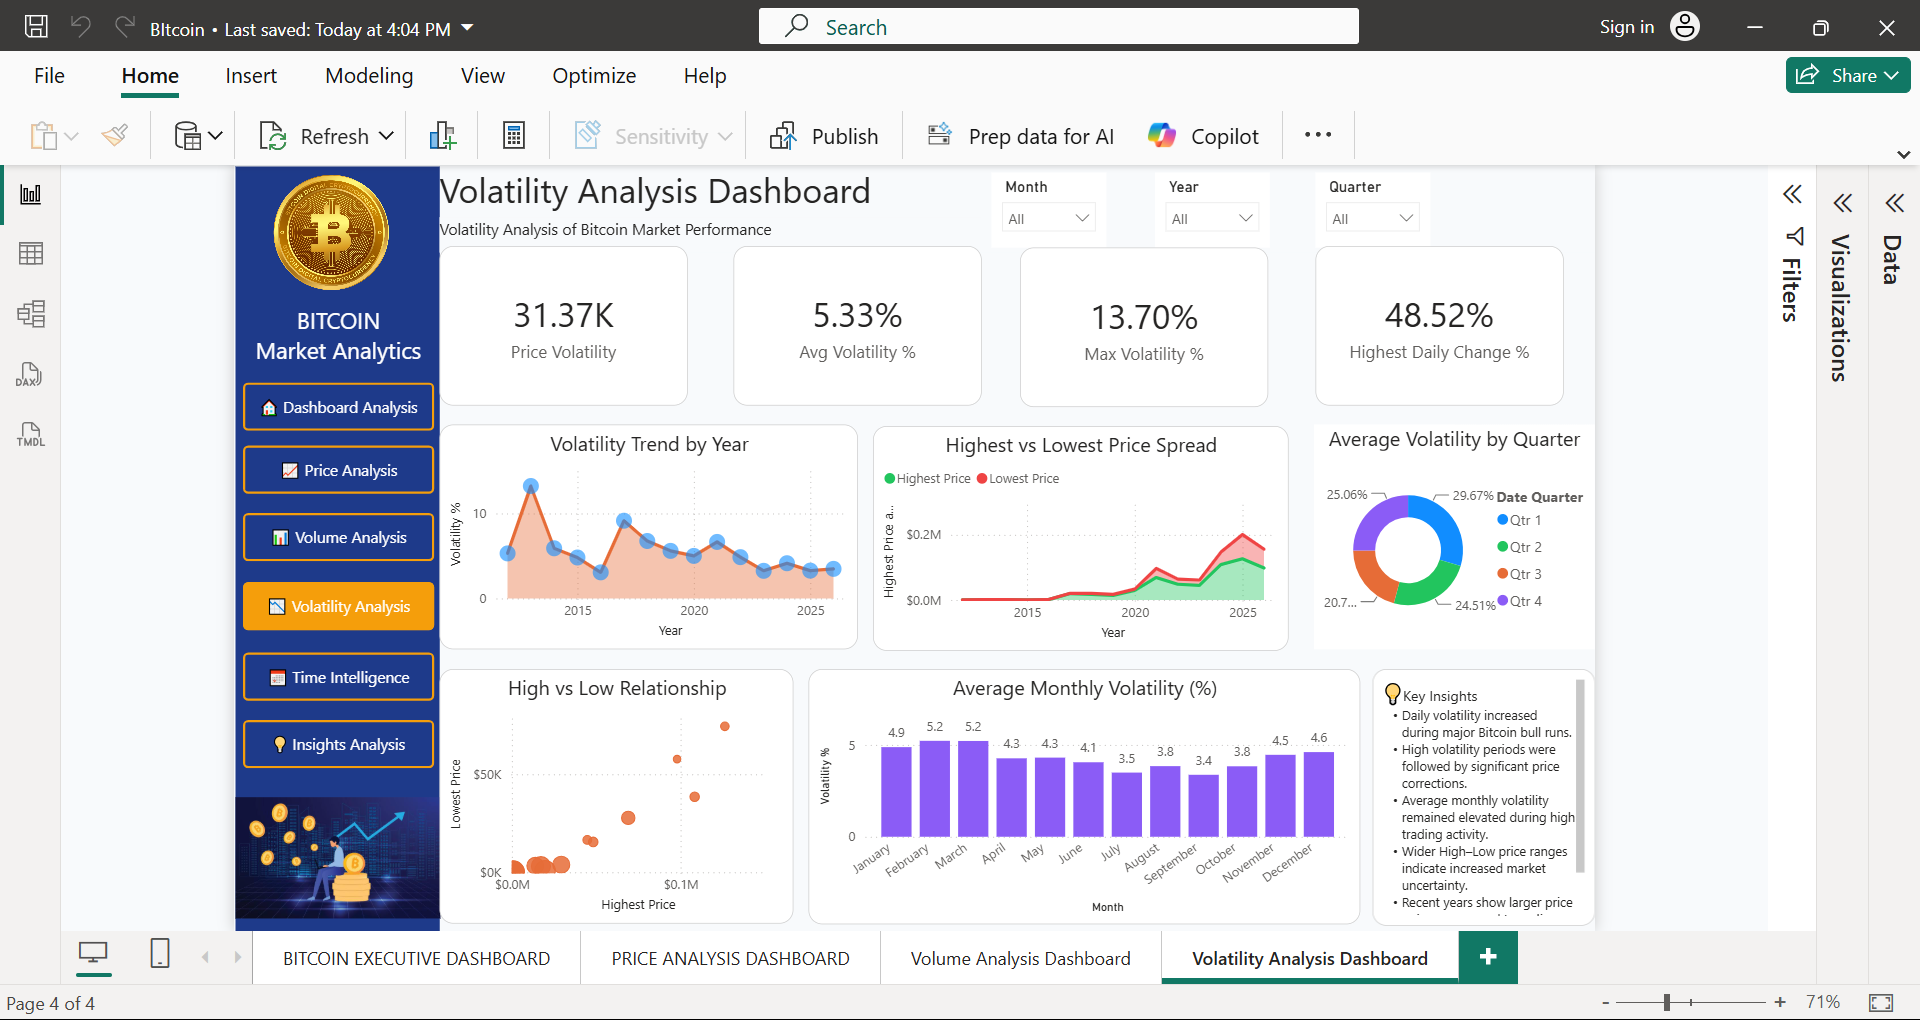

Layout of this report page (visuals, bound fields, positions):
{"tool":"powerbi","page":{"name":"Volatility Analysis Dashboard","canvas":[1280,720],"ordinal":3},"visuals":[{"type":"shape","box":[0.7,1.7,192.3,719.2],"z":0},{"type":"image","box":[0.7,1.7,180.2,124.2],"z":1000},{"type":"textbox","box":[2.3,125.8,190.6,80.2],"z":2000},{"type":"actionButton","box":[8.6,204.9,179.7,45.3],"z":3000},{"type":"actionButton","box":[8.6,264.3,179.7,45.3],"z":4000},{"type":"actionButton","box":[8.6,392.5,179.7,45.3],"z":5000},{"type":"actionButton","box":[8.6,326.8,179.7,45.3],"z":6000},{"type":"actionButton","box":[8.6,458.1,179.7,45.3],"z":7000},{"type":"actionButton","box":[8.6,522.2,179.7,45.3],"z":8000},{"type":"image","box":[0.7,580.7,192.5,140.4],"z":9000},{"type":"shape","title":"Volatility Analysis Dashboard","box":[192.5,1.7,1088.5,80.4],"z":10000},{"type":"shape","box":[702.5,1.7,578.3,79.7],"z":11000},{"type":"slicer","fields":{"Values":["Bitcoin_Cleaned_Daily.Month"]},"box":[711.9,6.4,107.8,70.3],"z":12000},{"type":"slicer","fields":{"Values":["Bitcoin_Cleaned_Daily.Year"]},"box":[865.1,6.4,107.8,70.3],"z":13000},{"type":"slicer","fields":{"Values":["Bitcoin_Cleaned_Daily.Quarter"]},"box":[1016.7,6.4,107.8,70.3],"z":14000},{"type":"textbox","box":[1070.5,473.7,209.5,241.4],"z":15000},{"type":"card","fields":{"Values":["Bitcoin_Cleaned_Daily.Price Volatility"]},"box":[192.9,75.9,233,149.8],"z":16000},{"type":"card","fields":{"Values":["Bitcoin_Cleaned_Daily.Avg Volatility %"]},"box":[469.8,75.9,233,149.8],"z":17000},{"type":"card","fields":{"Values":["Bitcoin_Cleaned_Daily.Max Volatility %"]},"box":[739.1,77.4,233,149.8],"z":18000},{"type":"card","fields":{"Values":["Bitcoin_Cleaned_Daily.Highest Daily Change %"]},"box":[1016,75.9,233,149.8],"z":19000},{"type":"areaChart","title":"Volatility Trend by Year","fields":{"Category":["Bitcoin_Cleaned_Daily.Year"],"Y":["Bitcoin_Cleaned_Daily.Volatility %"]},"box":[193.2,243.9,393.4,211.5],"z":20000},{"type":"stackedAreaChart","title":"Highest vs Lowest Price Spread","fields":{"Category":["Bitcoin_Cleaned_Daily.Year"],"Y":["Bitcoin_Cleaned_Daily.Highest Price","Bitcoin_Cleaned_Daily.Lowest Price"]},"box":[600.6,245.3,390.6,211.5],"z":21000},{"type":"scatterChart","title":"High vs Low Relationship","fields":{"X":["Bitcoin_Cleaned_Daily.Highest Price"],"Y":["Bitcoin_Cleaned_Daily.Lowest Price"],"Category":["Bitcoin_Cleaned_Daily.Year"],"Size":["Bitcoin_Cleaned_Daily.Total Volume"]},"box":[192.9,473.8,332.9,239.1],"z":22000},{"type":"clusteredColumnChart","title":"Average Monthly Volatility (%)","fields":{"Y":["Bitcoin_Cleaned_Daily.Volatility %"],"Category":["Bitcoin_Cleaned_Daily.Date.Variation.Date Hierarchy.Month"]},"box":[540,473.7,518.9,239.7],"z":23000},{"type":"donutChart","title":"Average Volatility by Quarter","fields":{"Category":["Bitcoin_Cleaned_Daily.Date.Variation.Date Hierarchy.Quarter"],"Y":["Bitcoin_Cleaned_Daily.Volatility %"]},"box":[1015.8,244.5,264.2,211.1],"z":24000}]}

Visuals, with their boxes on the page's 1280x720 design canvas (x1, y1, x2, y2). These are canvas units, not pixel positions in the 1920x1020 screenshot, which may show the page scaled, cropped or inside an application window:
shape: region(1, 2, 193, 721)
image: region(1, 2, 181, 126)
textbox: region(2, 126, 193, 206)
actionButton: region(9, 205, 188, 250)
actionButton: region(9, 264, 188, 310)
actionButton: region(9, 392, 188, 438)
actionButton: region(9, 327, 188, 372)
actionButton: region(9, 458, 188, 503)
actionButton: region(9, 522, 188, 568)
image: region(1, 581, 193, 721)
"Volatility Analysis Dashboard" shape: region(192, 2, 1281, 82)
shape: region(702, 2, 1281, 81)
slicer - Bitcoin_Cleaned_Daily.Month: region(712, 6, 820, 77)
slicer - Bitcoin_Cleaned_Daily.Year: region(865, 6, 973, 77)
slicer - Bitcoin_Cleaned_Daily.Quarter: region(1017, 6, 1124, 77)
textbox: region(1070, 474, 1280, 715)
card - Bitcoin_Cleaned_Daily.Price Volatility: region(193, 76, 426, 226)
card - Bitcoin_Cleaned_Daily.Avg Volatility %: region(470, 76, 703, 226)
card - Bitcoin_Cleaned_Daily.Max Volatility %: region(739, 77, 972, 227)
card - Bitcoin_Cleaned_Daily.Highest Daily Change %: region(1016, 76, 1249, 226)
"Volatility Trend by Year" areaChart: region(193, 244, 587, 455)
"Highest vs Lowest Price Spread" stackedAreaChart: region(601, 245, 991, 457)
"High vs Low Relationship" scatterChart: region(193, 474, 526, 713)
"Average Monthly Volatility (%)" clusteredColumnChart: region(540, 474, 1059, 713)
"Average Volatility by Quarter" donutChart: region(1016, 244, 1280, 456)
